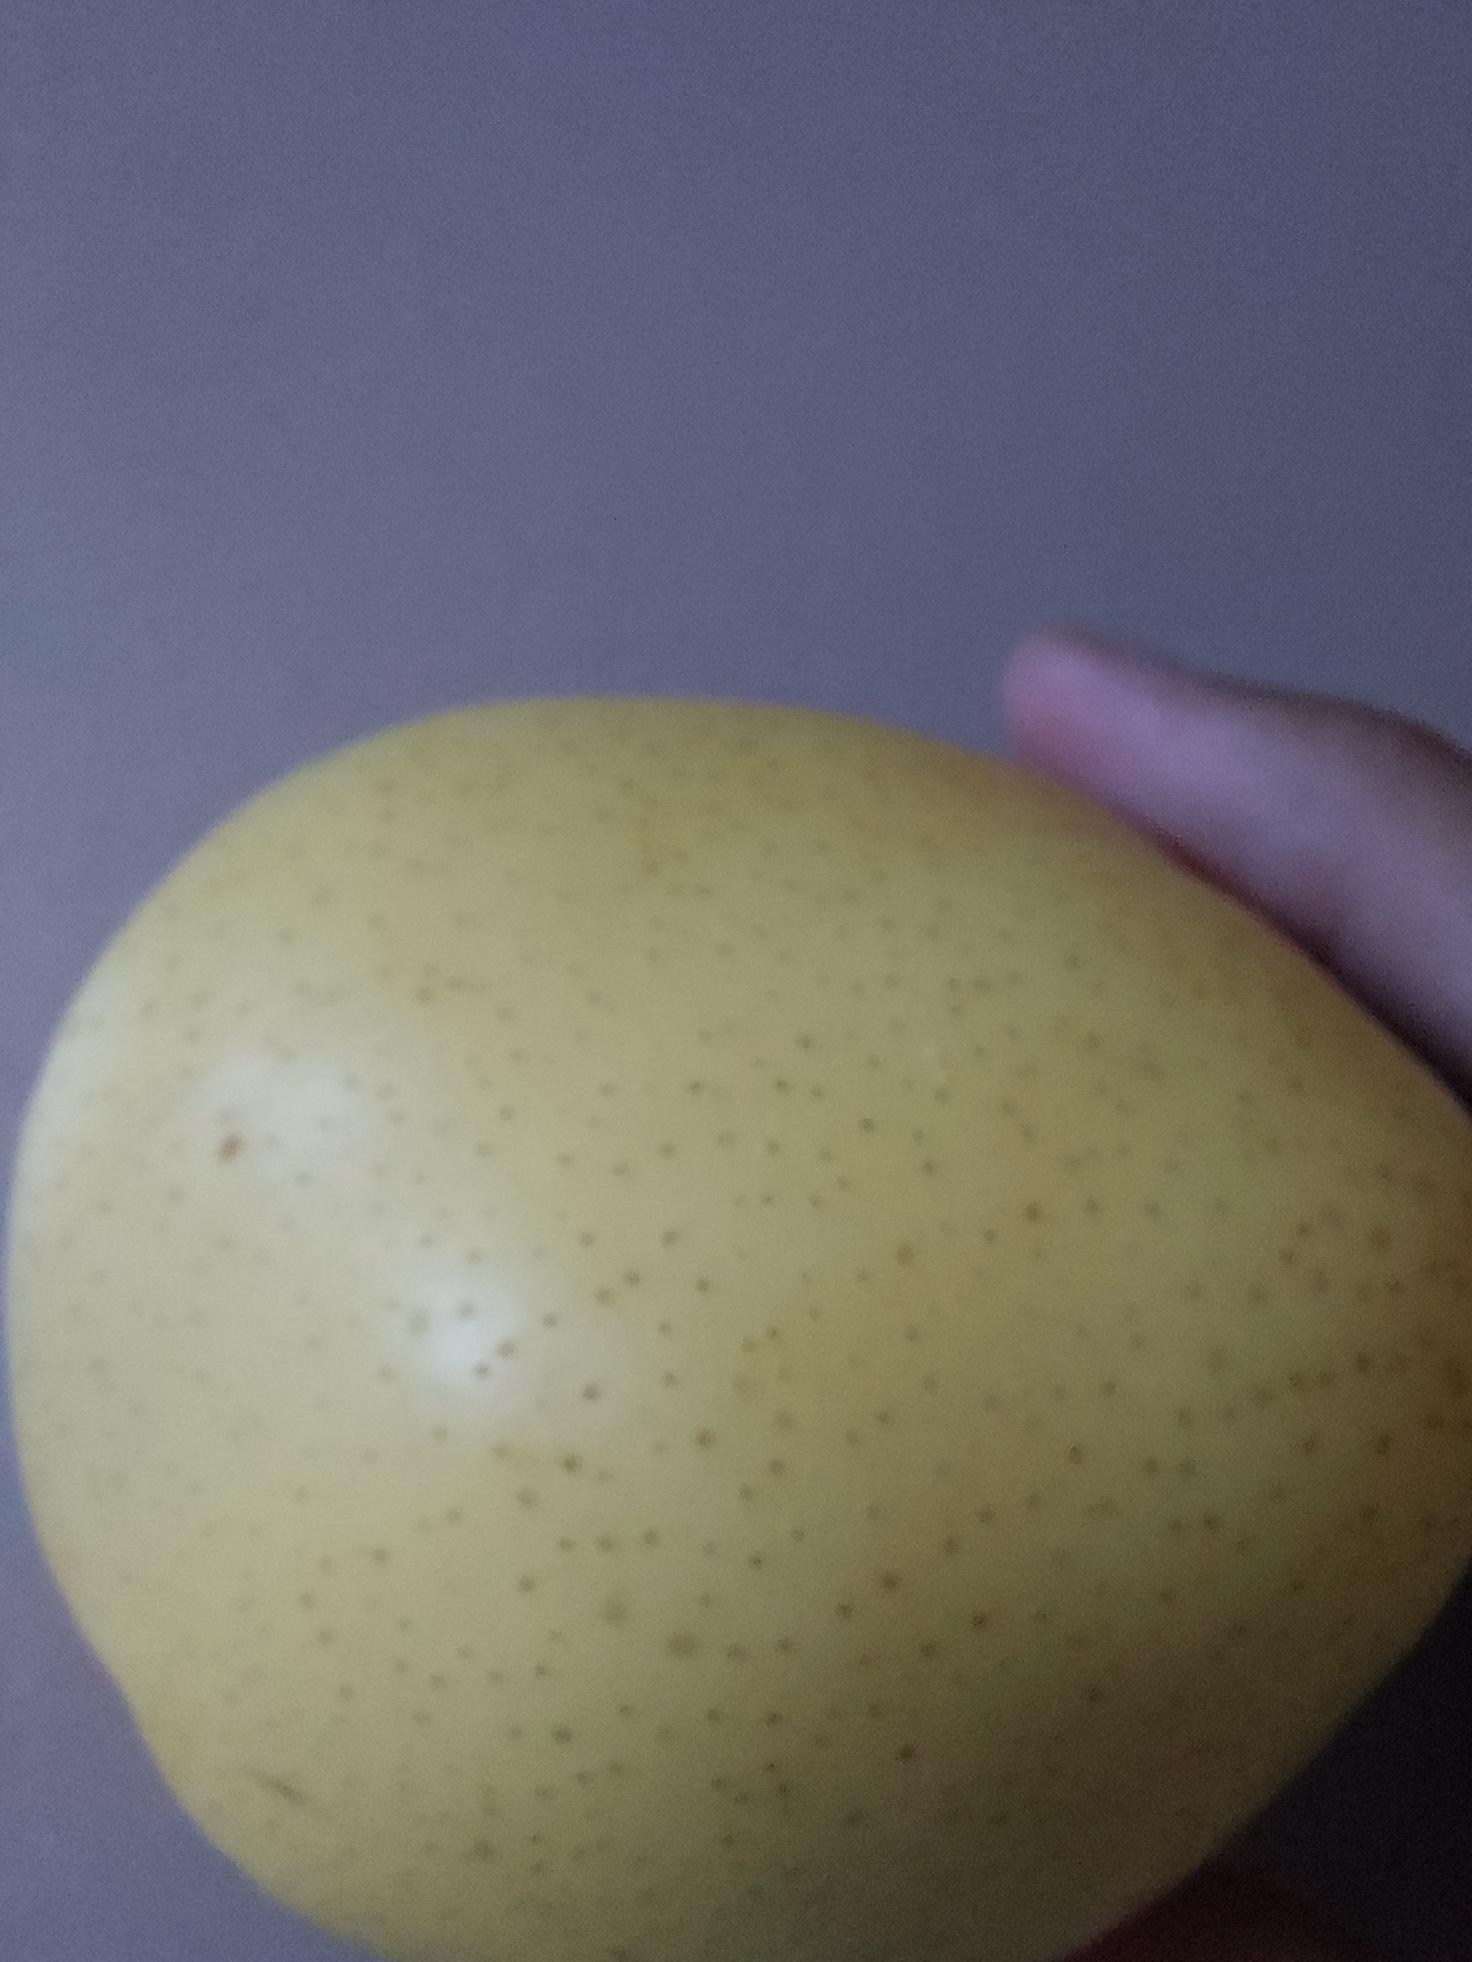Good Pear: (0, 701, 1472, 1962)
